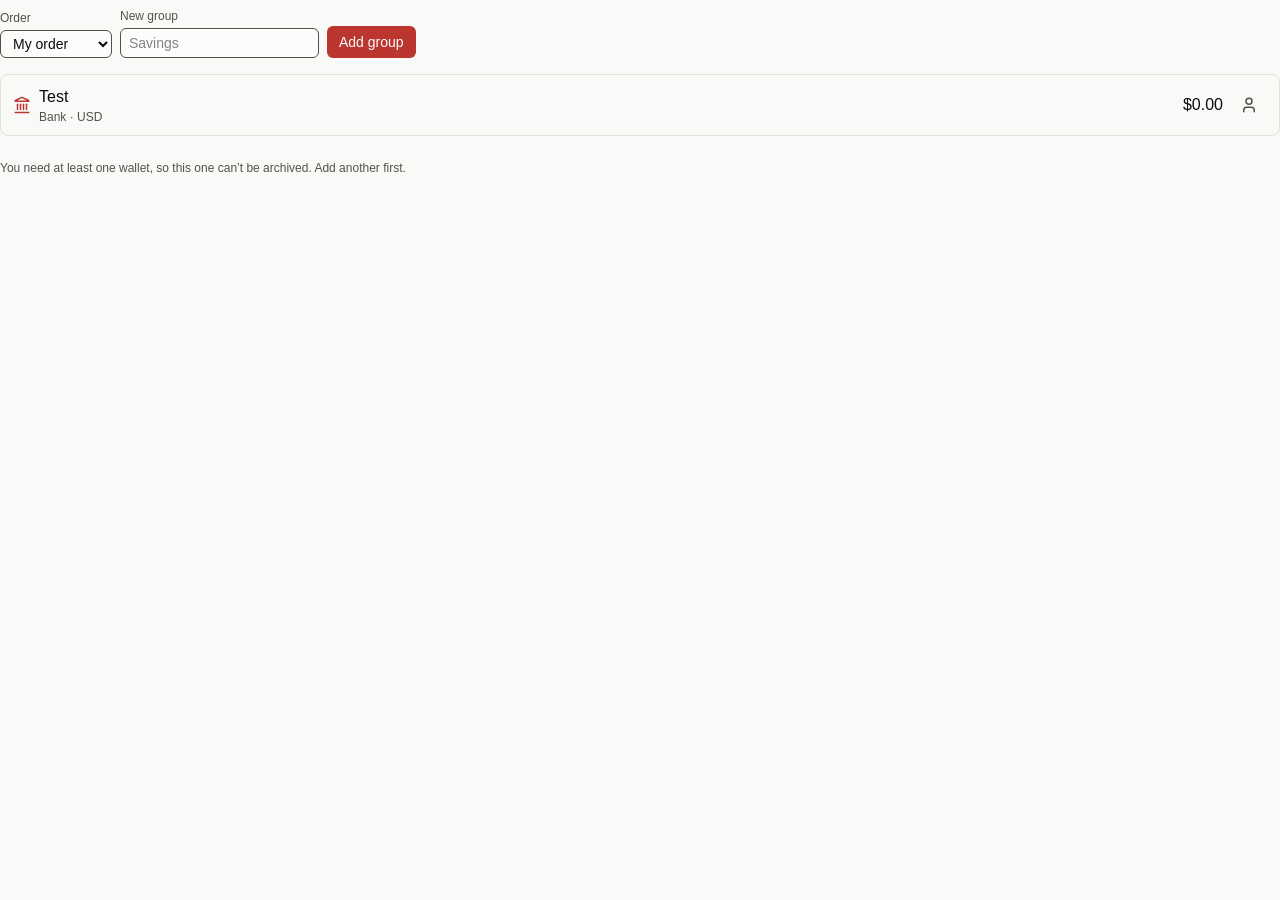
Scenario: WalletList — members and edit dialogs › closes the dialog again
The width and height of the screenshot is (1280, 900).
Click the button named "Members of Test".
click(1249, 105)  # box [1231,83,1267,127]
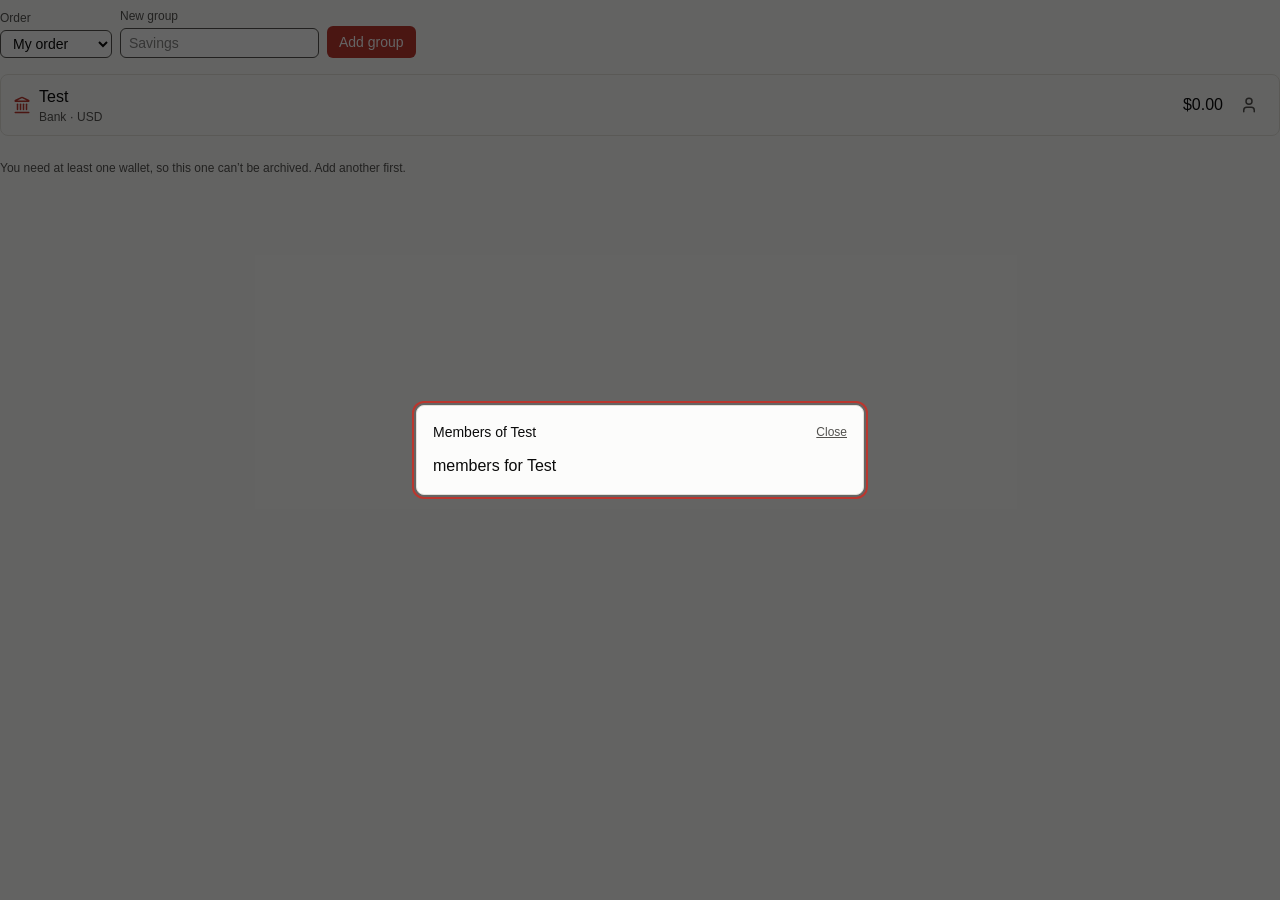
Press Escape
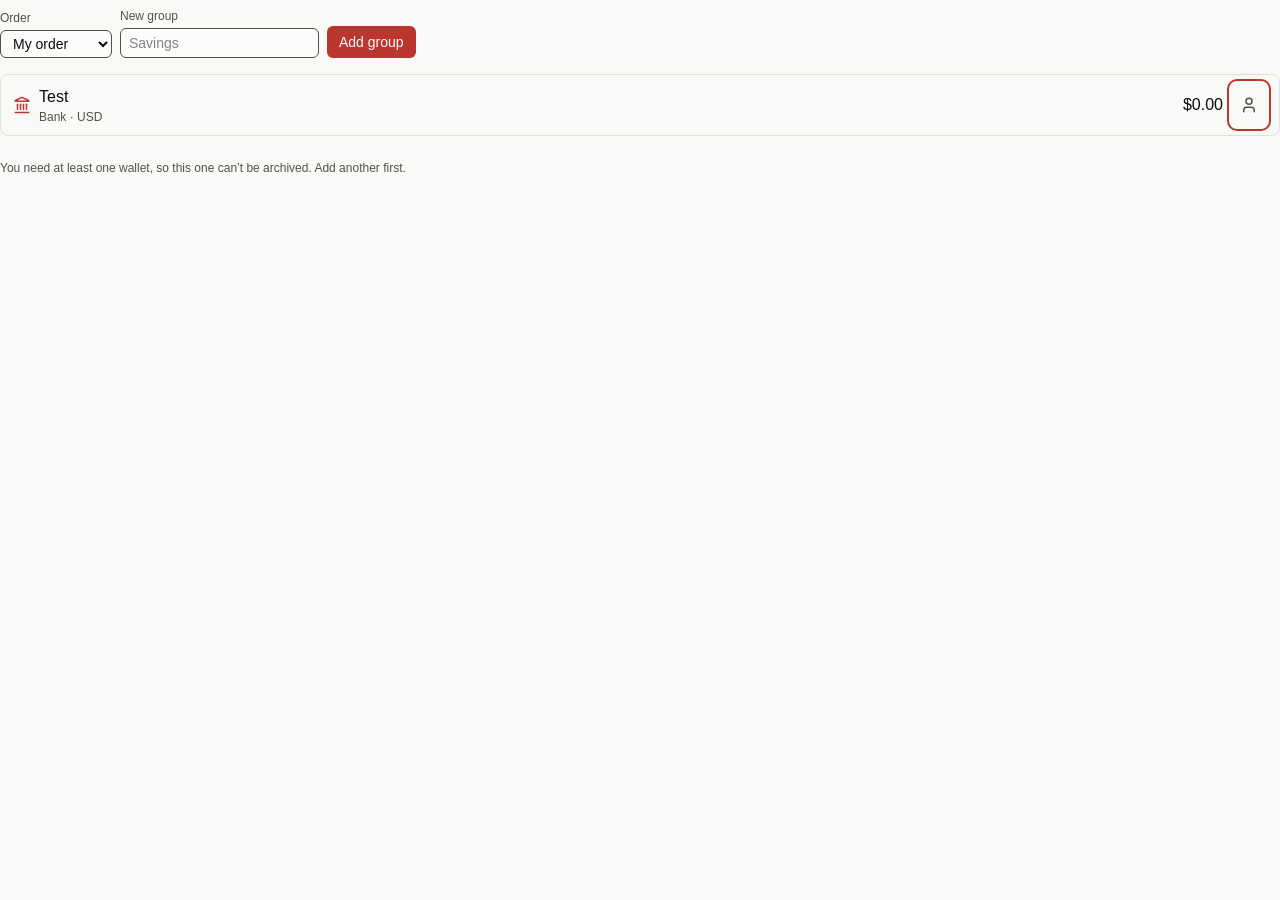
Check: the dialog is gone
Check: the text "members for Test" is gone
